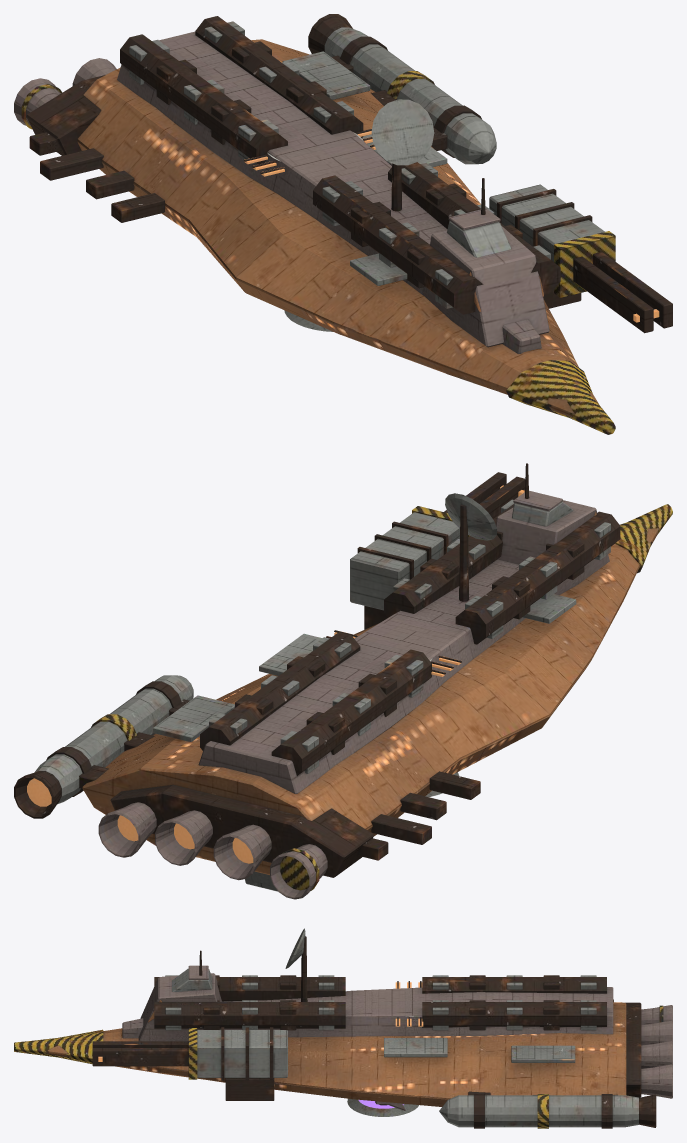
The model's file is dustborn_picket.glb.
3 renders of one model, top to bottom at view 1: azimuth 30°, elevation 25°; view 2: azimuth 150°, elevation 25°; view 3: azimuth 270°, elevation 25°, orthographic. The views are drawn at different scales.
Visible parts, largest first — view 1: HULL, SYS_DRIVE, SYS_BUS_A, SYS_BUS_F, SYS_WPN1, SYS_BRIDGE, SYS_SENSORS; view 2: HULL, SYS_DRIVE, SYS_BUS_A, SYS_BUS_F, SYS_WPN1, SYS_BRIDGE, SYS_SENSORS; view 3: HULL, SYS_DRIVE, SYS_WPN1, SYS_BUS_A, SYS_BUS_F, SYS_BRIDGE, SYS_DAMP, SYS_SENSORS, SYS_REACTOR.
Part boxes in pixels (bbox=[...]): HULL: bbox=[29, 31, 615, 434]; SYS_DRIVE: bbox=[14, 14, 496, 164]; SYS_BUS_A: bbox=[120, 16, 363, 164]; SYS_BUS_F: bbox=[313, 162, 560, 314]; SYS_WPN1: bbox=[489, 184, 672, 333]; SYS_BRIDGE: bbox=[422, 178, 549, 347]; SYS_SENSORS: bbox=[371, 99, 434, 211]; HULL: bbox=[82, 504, 672, 874]; SYS_DRIVE: bbox=[14, 675, 373, 899]; SYS_BUS_A: bbox=[200, 632, 431, 775]; SYS_BUS_F: bbox=[384, 499, 620, 644]; SYS_WPN1: bbox=[350, 472, 525, 629]; SYS_BRIDGE: bbox=[496, 463, 609, 594]; SYS_SENSORS: bbox=[445, 493, 496, 601]; HULL: bbox=[14, 987, 626, 1106]; SYS_DRIVE: bbox=[439, 1002, 672, 1128]; SYS_WPN1: bbox=[92, 1027, 287, 1100]; SYS_BUS_A: bbox=[422, 975, 606, 1030]; SYS_BUS_F: bbox=[154, 975, 345, 1030]; SYS_BRIDGE: bbox=[138, 950, 225, 1041]; SYS_DAMP: bbox=[347, 1098, 418, 1116]; SYS_SENSORS: bbox=[285, 928, 307, 1001]; SYS_REACTOR: bbox=[376, 981, 423, 1104].
Size of the model in its own units: 10.4 by 6.94 by 23.64.
Materials: 1 (1 with a texture image).
